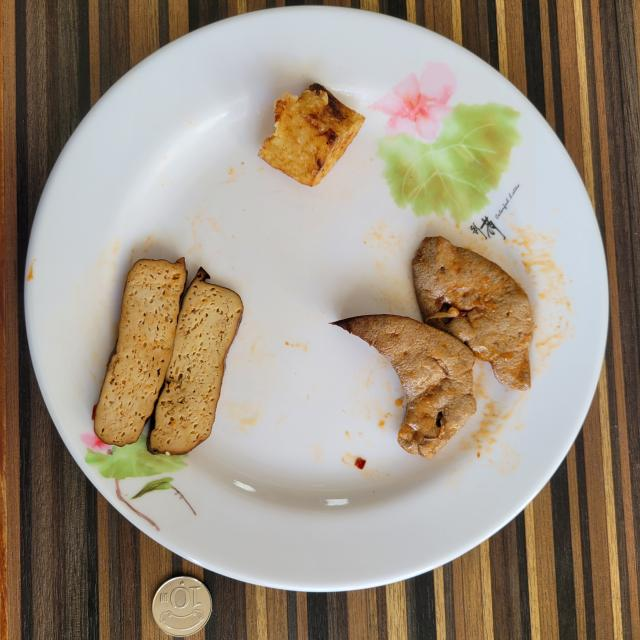coin: (152, 576, 212, 638)
firm tofu: (92, 258, 242, 455)
fried potato: (259, 84, 365, 186)
pig liver: (334, 238, 532, 459)
